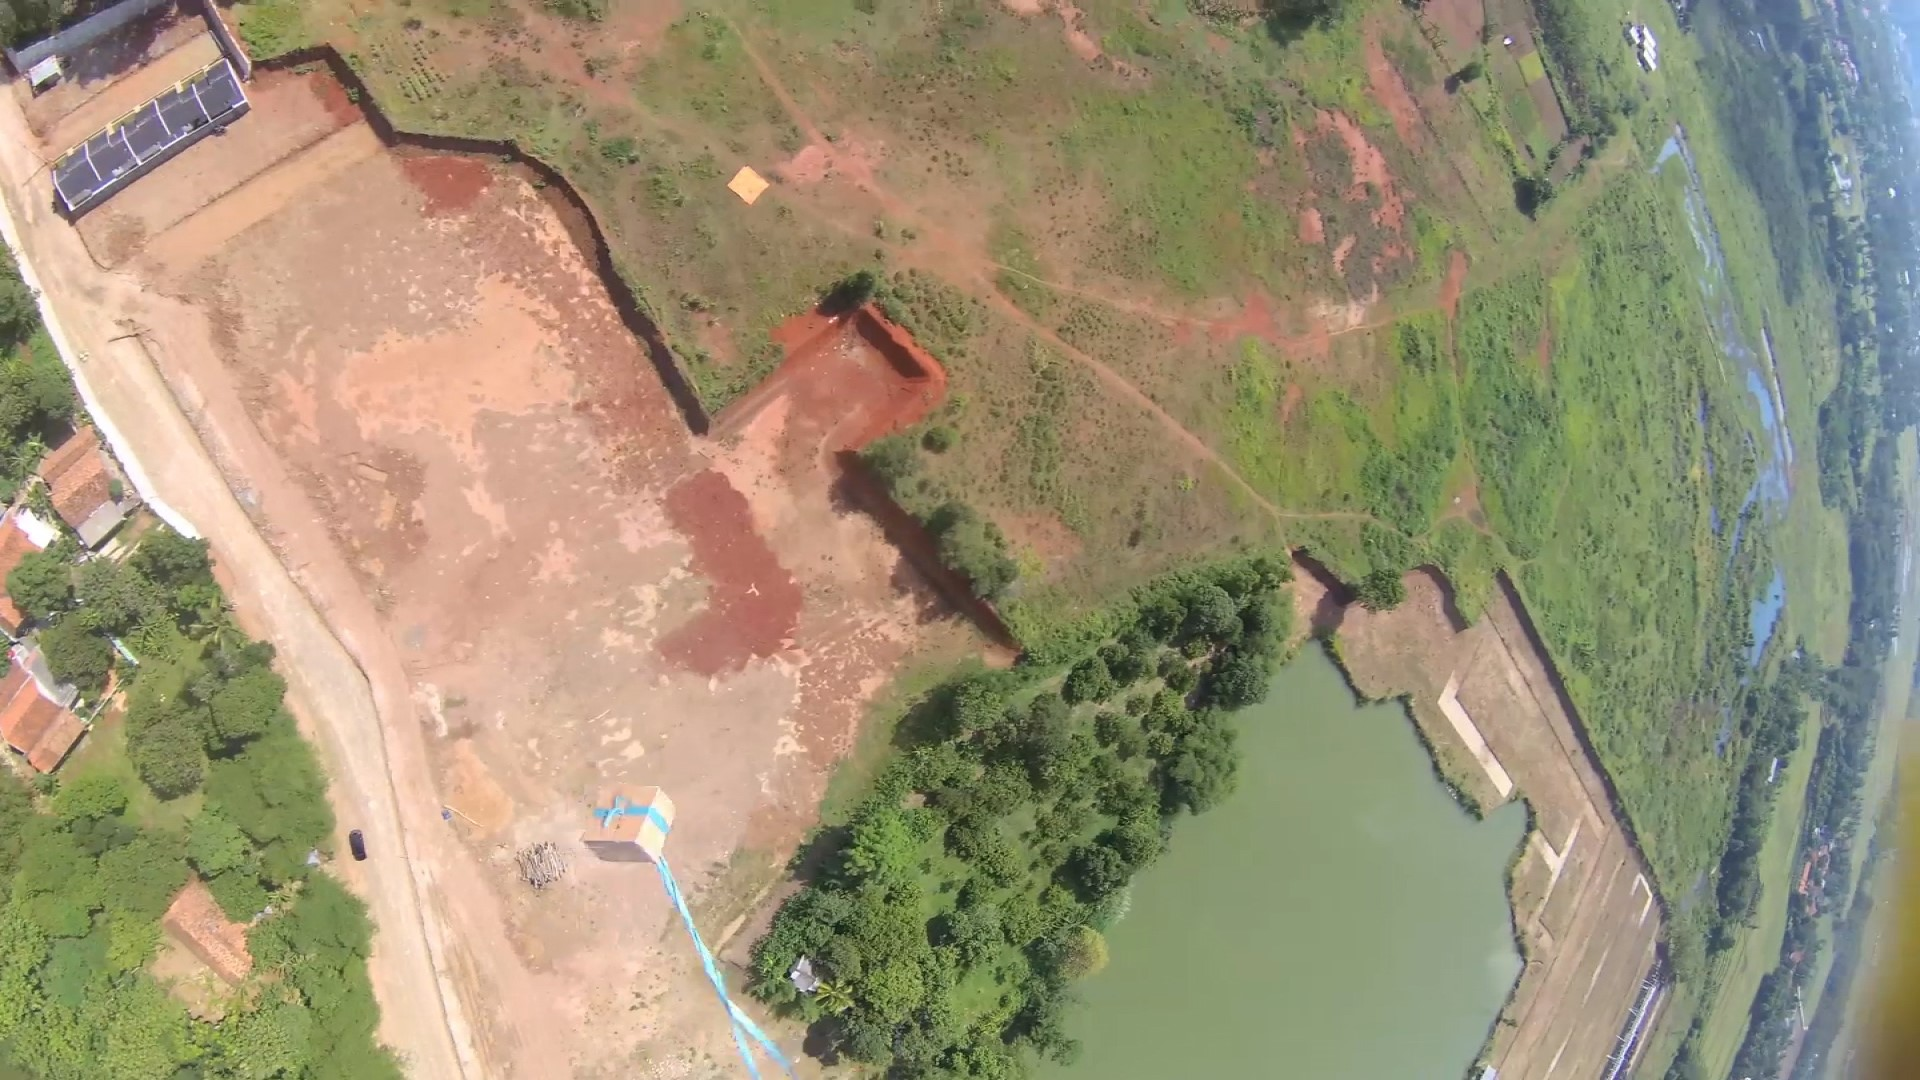Orange Dropzone: (724, 164, 771, 207)
